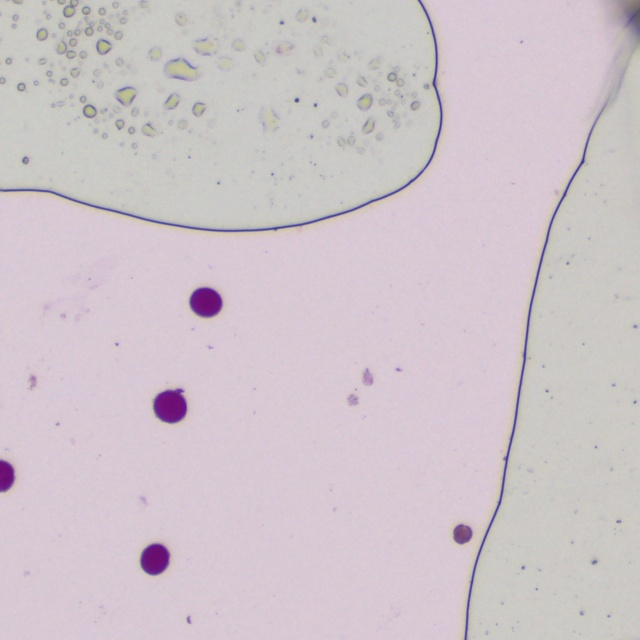viable: (155, 389, 186, 422), (190, 288, 222, 317), (141, 544, 169, 574), (1, 461, 14, 491), (454, 524, 472, 543)
